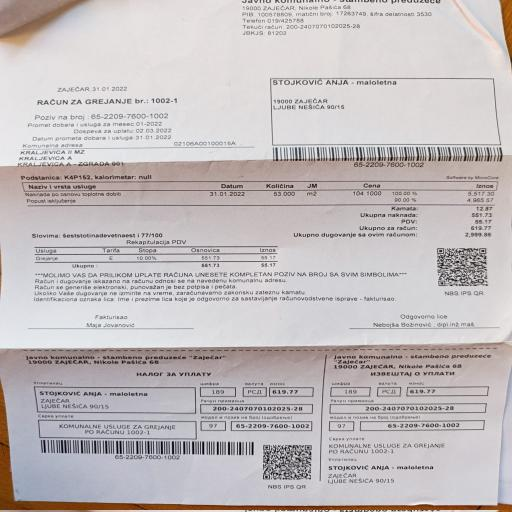racun_za_grejanje: (22, 180, 504, 232)
